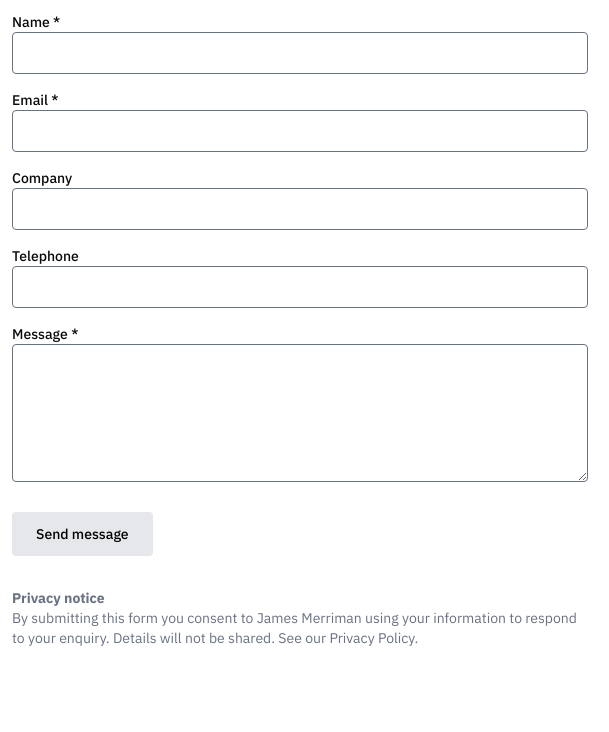
ContactForm › shows a validation error for an invalid email address
Type "James Merriman" into the field labelled "Name *". click: [300, 53]
box: [12, 32, 588, 74]
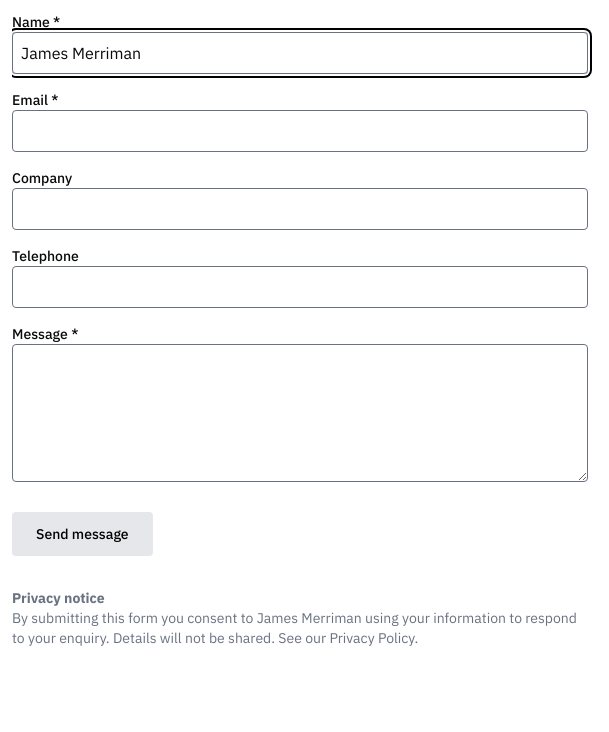
Type "not-an-email" into the field labelled "Email *". click: [300, 131]
box: [12, 110, 588, 152]
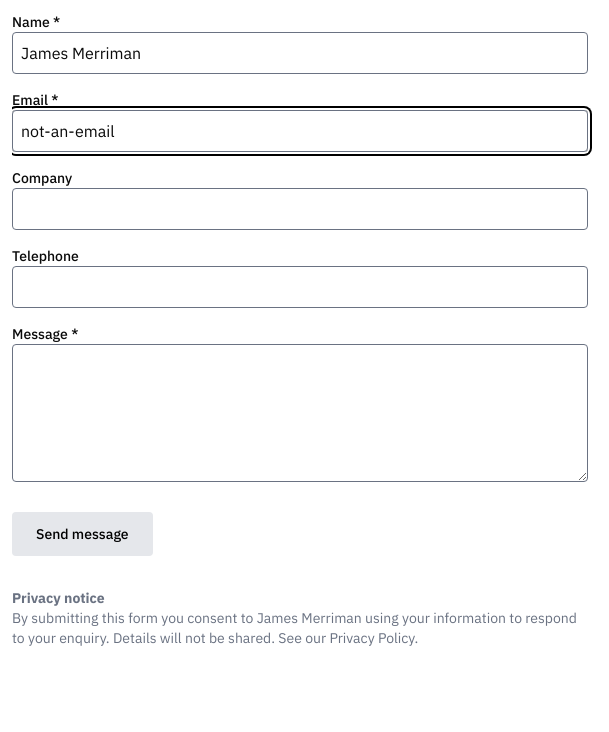
Type "Hello, this is a test message." into the text box labelled "Message *". click: [300, 413]
box: [12, 344, 588, 482]
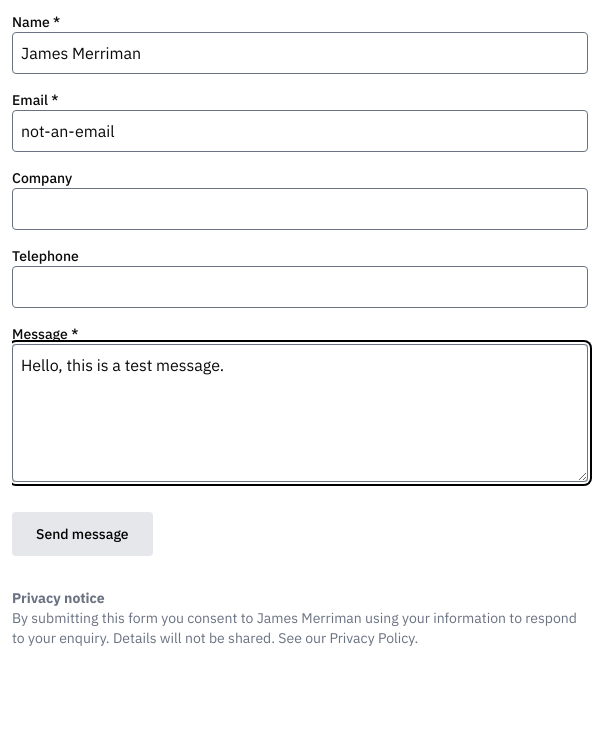
Click the button "Send message". click: [82, 534]
box: [12, 512, 153, 556]
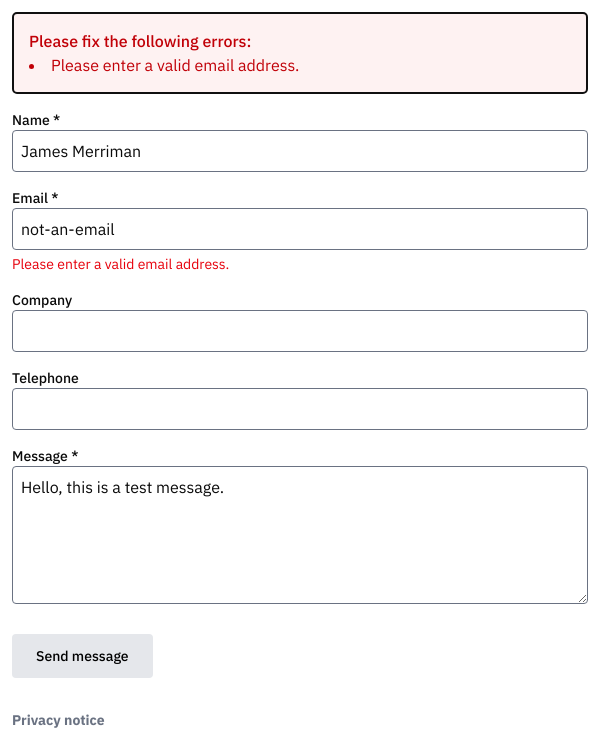
Expected: the number of list items "Please enter a valid email address." is 2, [51, 55, 300, 75]; [12, 255, 229, 273]
